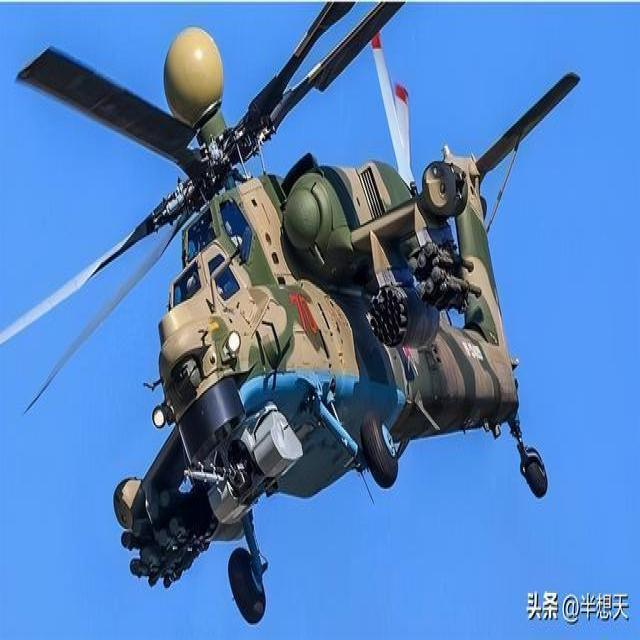MIL_HELO: (4, 20, 616, 628)
